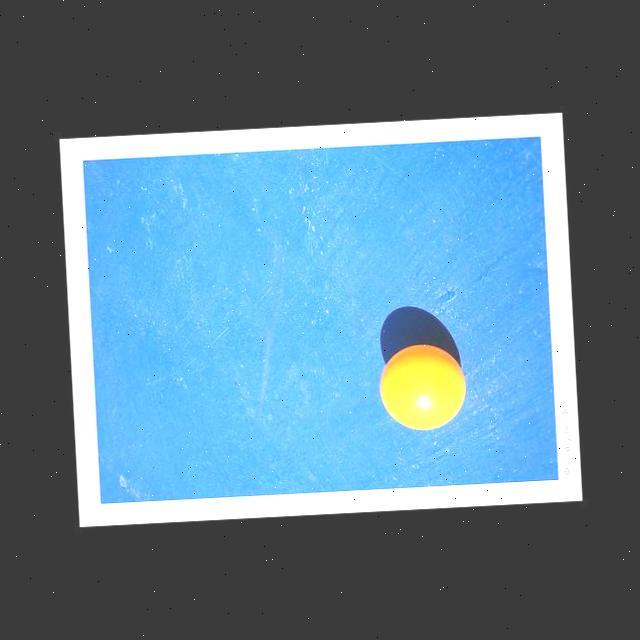ping-pong-ball: (376, 338, 469, 432)
